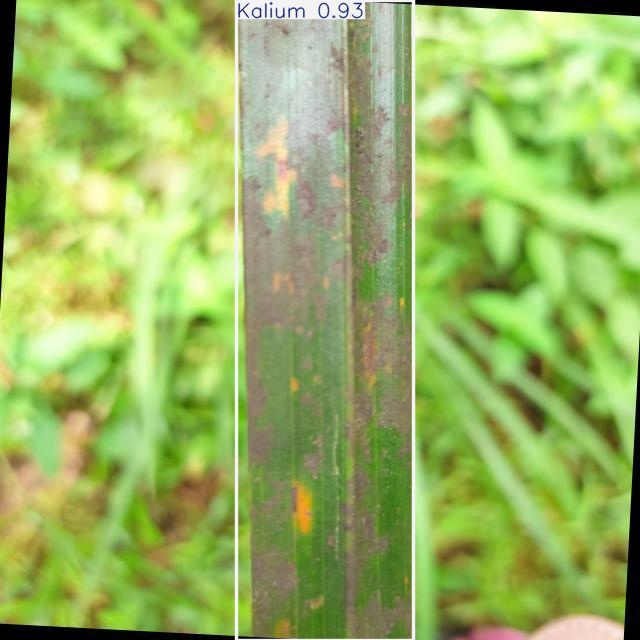Kalium: (236, 0, 413, 640)
